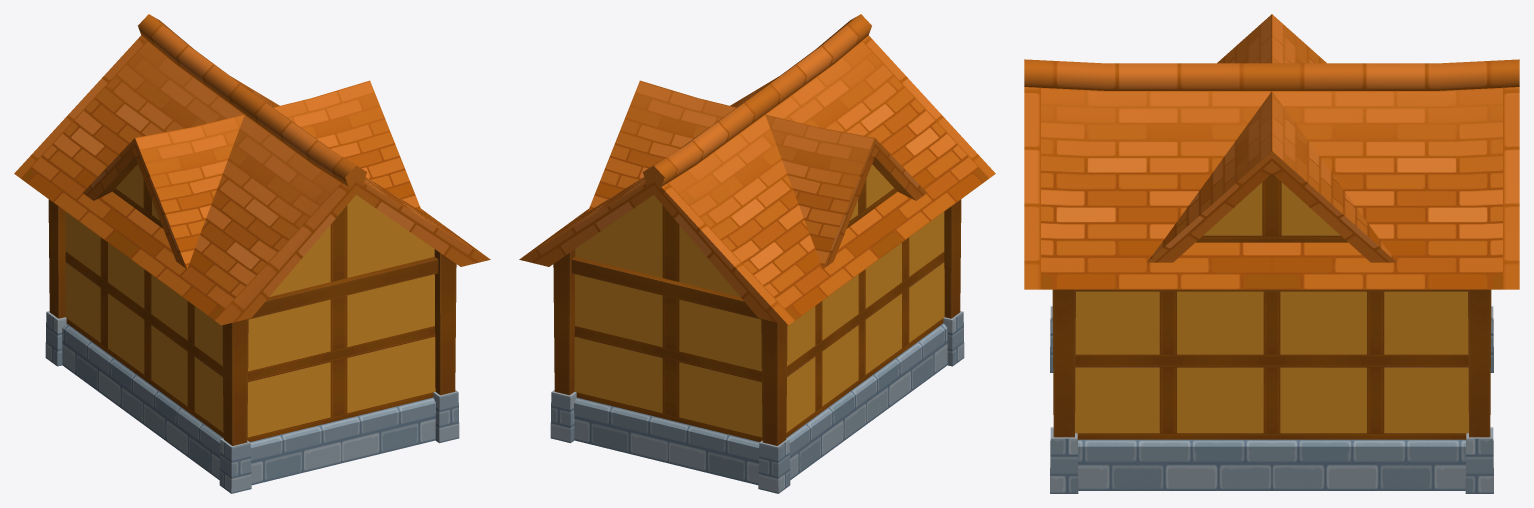
The model's file is HOS0410004.fbx.
The picture shows the model from 3 angles, left to right: view 1: azimuth 30°, elevation 25°; view 2: azimuth 150°, elevation 25°; view 3: azimuth 270°, elevation 25°; orthographic projection. The views are drawn at different scales.
Visible parts, largest first — view 1: smHOS0410004; view 2: smHOS0410004; view 3: smHOS0410004.
Part boxes in pixels (x1=…): smHOS0410004: x1=14, y1=14, x2=490, y2=493; smHOS0410004: x1=519, y1=14, x2=995, y2=493; smHOS0410004: x1=1024, y1=14, x2=1519, y2=493.
Size of the model in its own units: 322 by 352 by 429.
1 material, 1 textured.
